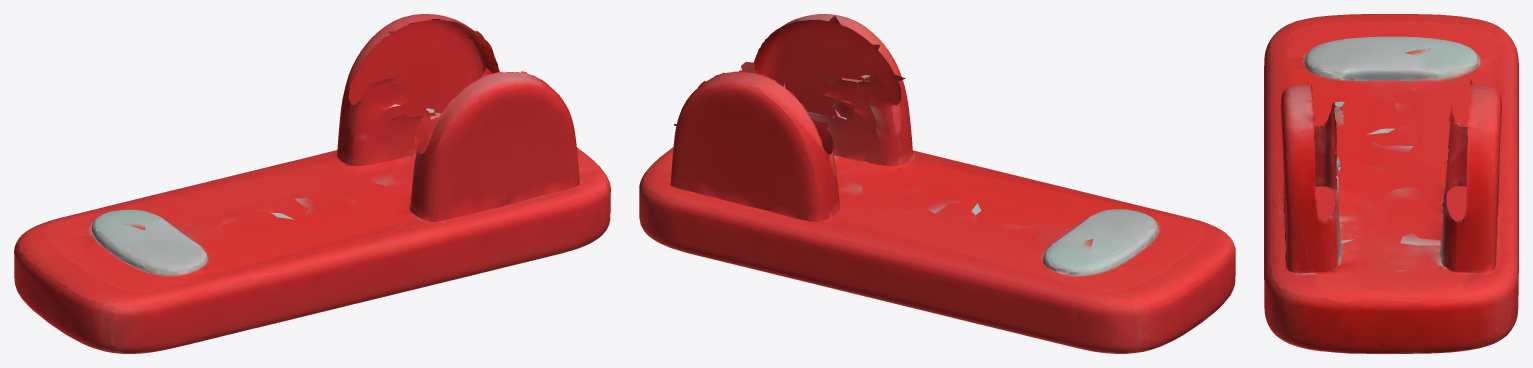
3 renders of one model, left to right at view 1: azimuth 30°, elevation 25°; view 2: azimuth 150°, elevation 25°; view 3: azimuth 270°, elevation 25°, orthographic. The views are drawn at different scales.
Parts seen in each view (by area): view 1: world; view 2: world; view 3: world.
Part boxes in pixels (left/top/right/bottom): world: left=14, top=14, right=610, bottom=353; world: left=639, top=14, right=1235, bottom=353; world: left=1264, top=14, right=1518, bottom=353.
Size of the model in its own units: 0.13 by 0.044 by 0.0484.
Materials: 1 (1 with a texture image).
